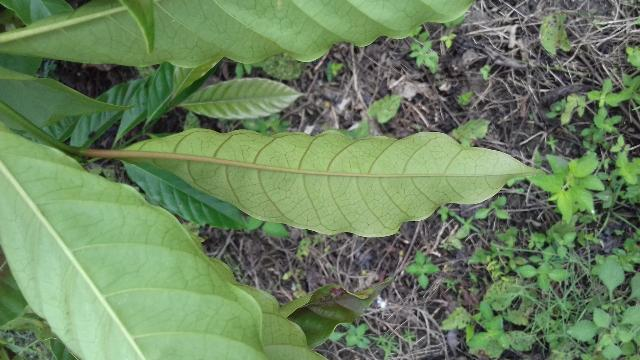healthy: (83, 130, 538, 237)
